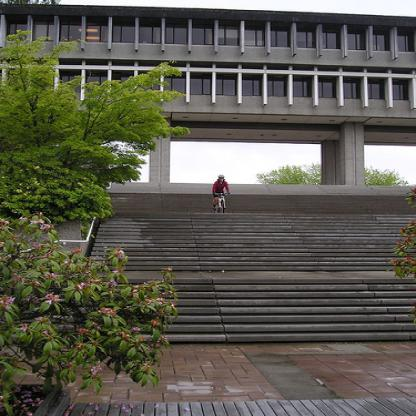stairs: (193, 280, 380, 351)
